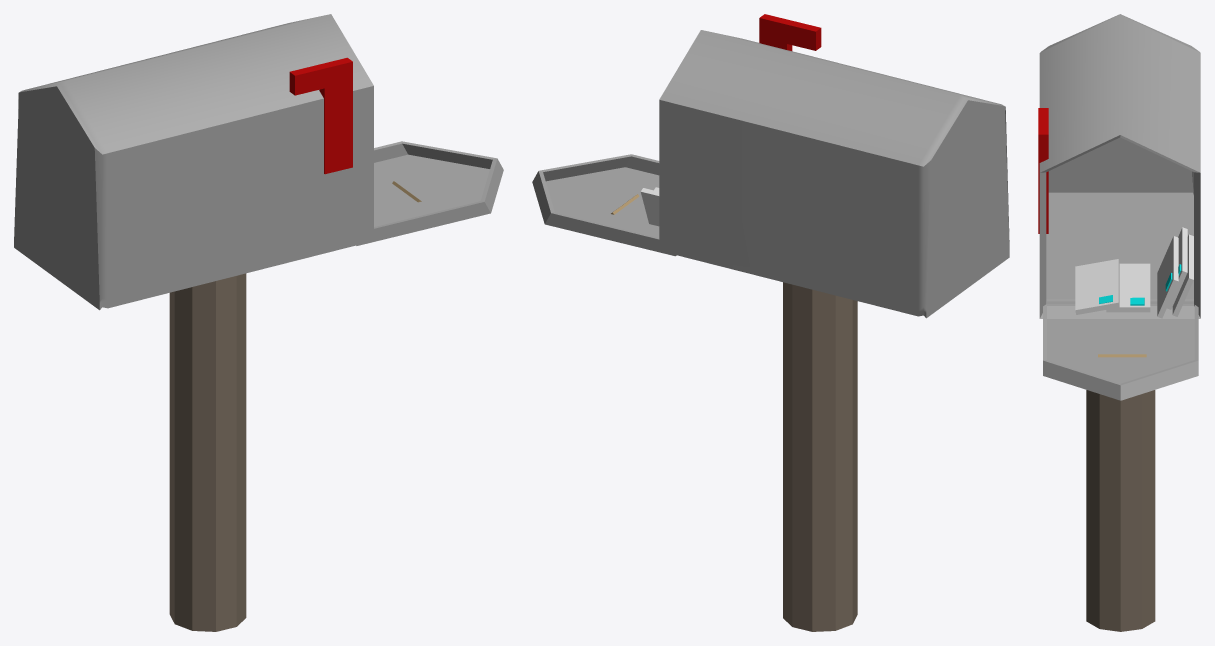
Rendered from MailboxwMail.fbx.
3 views of the same model, side by side, from view 1: azimuth 30°, elevation 25°; view 2: azimuth 150°, elevation 25°; view 3: azimuth 270°, elevation 25° (orthographic). The views are drawn at different scales.
Visible parts, largest first — view 1: pCube69; view 2: pCube69; view 3: pCube69.
Part boxes in pixels (left/top/right/bottom): pCube69: left=14, top=14, right=503, bottom=631; pCube69: left=532, top=14, right=1009, bottom=631; pCube69: left=1038, top=14, right=1200, bottom=631.
Size of the model in its own units: 2.04 by 2.49 by 0.6822.
